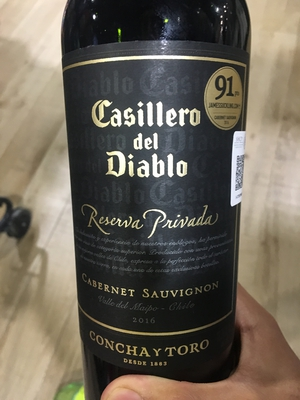casillero del diablo reserva privada cabernet sauvignon: (52, 5, 257, 385)
